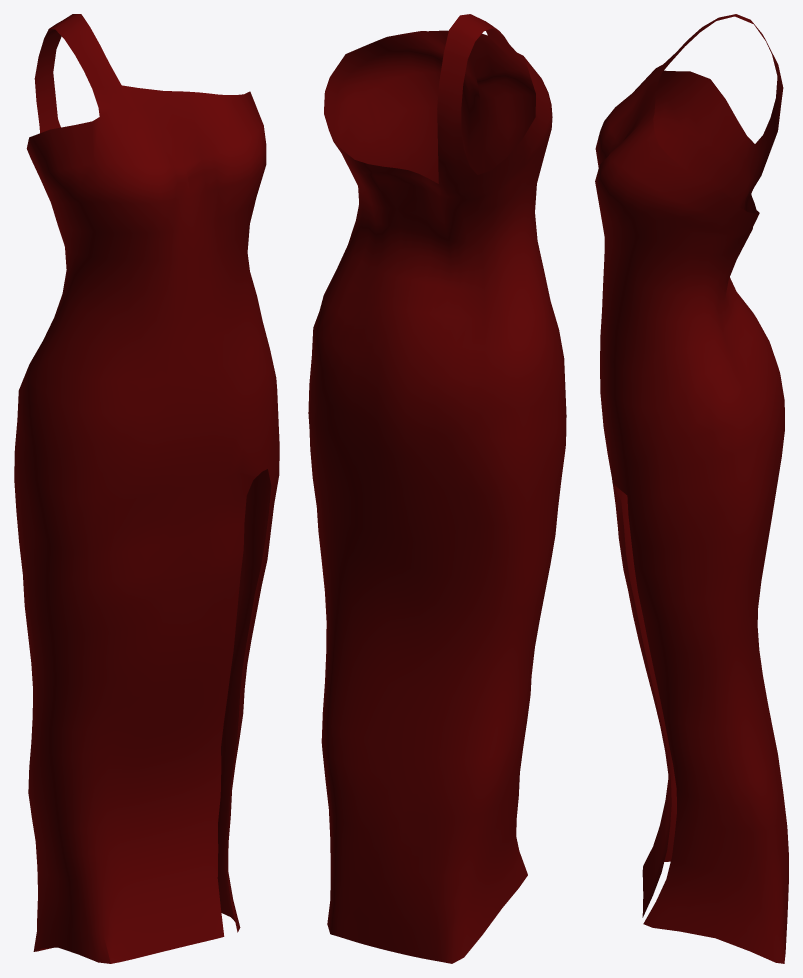
File: Minnie_Dress.fbx
3 views of the same model, side by side, from view 1: azimuth 30°, elevation 25°; view 2: azimuth 150°, elevation 25°; view 3: azimuth 270°, elevation 25° (orthographic). The views are drawn at different scales.
Visible parts, largest first — view 1: pPlane3; view 2: pPlane3; view 3: pPlane3.
Part boxes in pixels (box(x1,y1,x2,y2)): pPlane3: box(14, 14, 279, 963); pPlane3: box(308, 14, 566, 963); pPlane3: box(595, 14, 788, 963).
Size of the model in its own units: 7.48 by 28.83 by 5.63.
